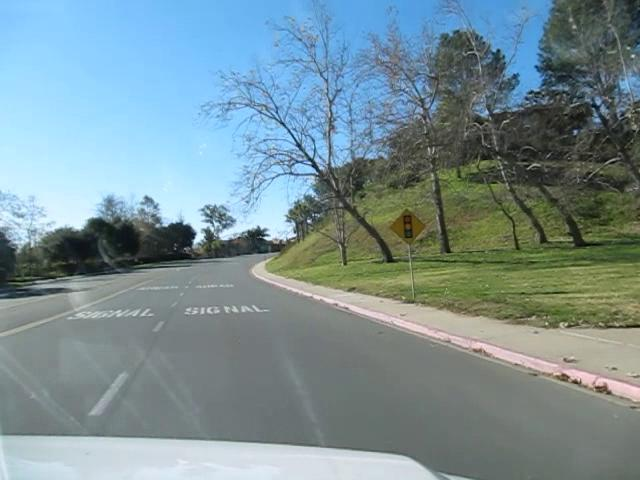signalAhead: (388, 207, 426, 244)
